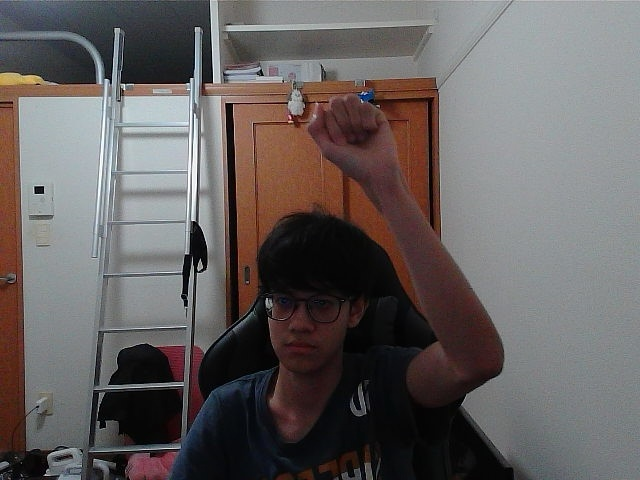closed_palm: (316, 101, 375, 166)
